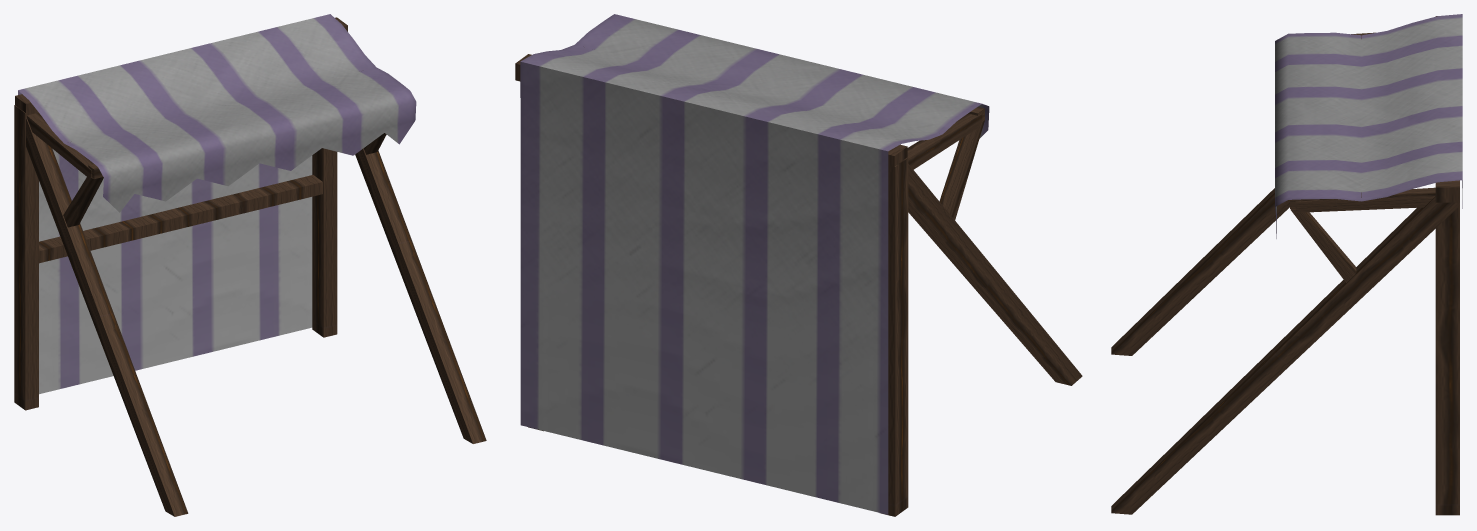
Rendered from Testice.fbx.
3 views of the same model, side by side, from view 1: azimuth 30°, elevation 25°; view 2: azimuth 150°, elevation 25°; view 3: azimuth 270°, elevation 25° (orthographic). The views are drawn at different scales.
Parts seen in each view (by area): view 1: SM_Marketpalce_stall_Ver_01_01; view 2: SM_Marketpalce_stall_Ver_01_01; view 3: SM_Marketpalce_stall_Ver_01_01.
Boxes of the visible parts, x1,y1,x2,y2 form: SM_Marketpalce_stall_Ver_01_01: (14, 14, 486, 516); SM_Marketpalce_stall_Ver_01_01: (515, 14, 1082, 516); SM_Marketpalce_stall_Ver_01_01: (1111, 14, 1462, 515).
Bounding box in the file's own units: 307 × 282 × 266.
